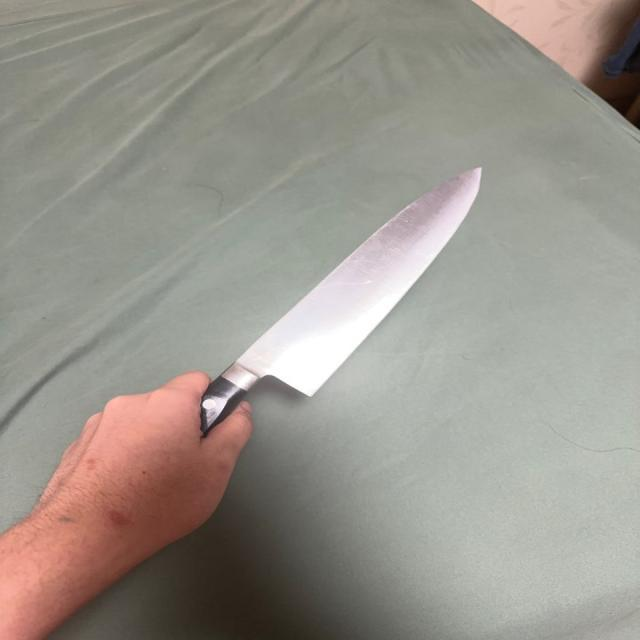knife: (193, 160, 482, 433)
